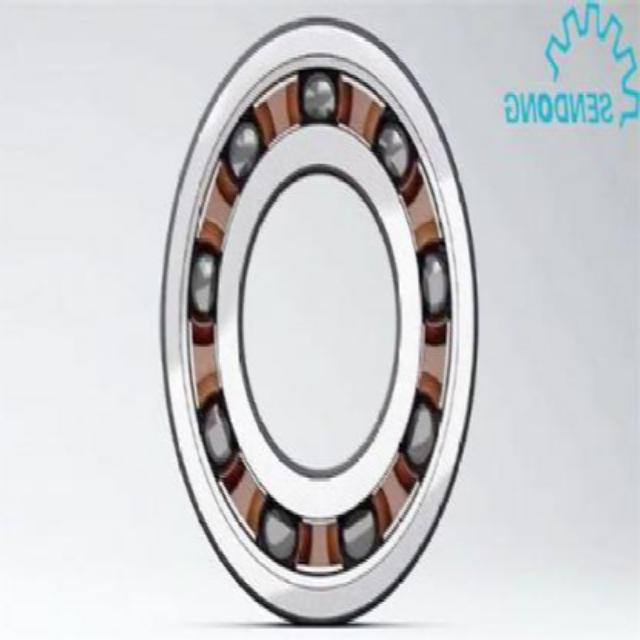Bearing: (158, 15, 480, 628)
